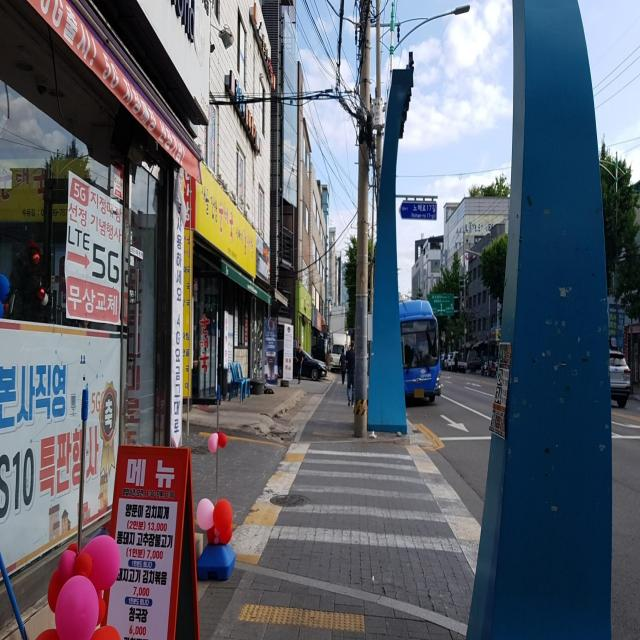횡단보도: (268, 447, 463, 556)
